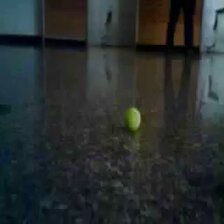tennis: (124, 107, 141, 132)
